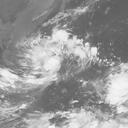cyclone: (16, 25, 90, 91)
